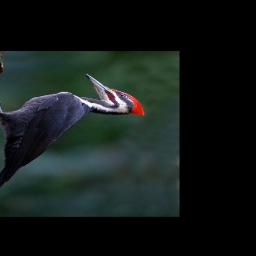Woodpecker: (0, 74, 145, 215)
